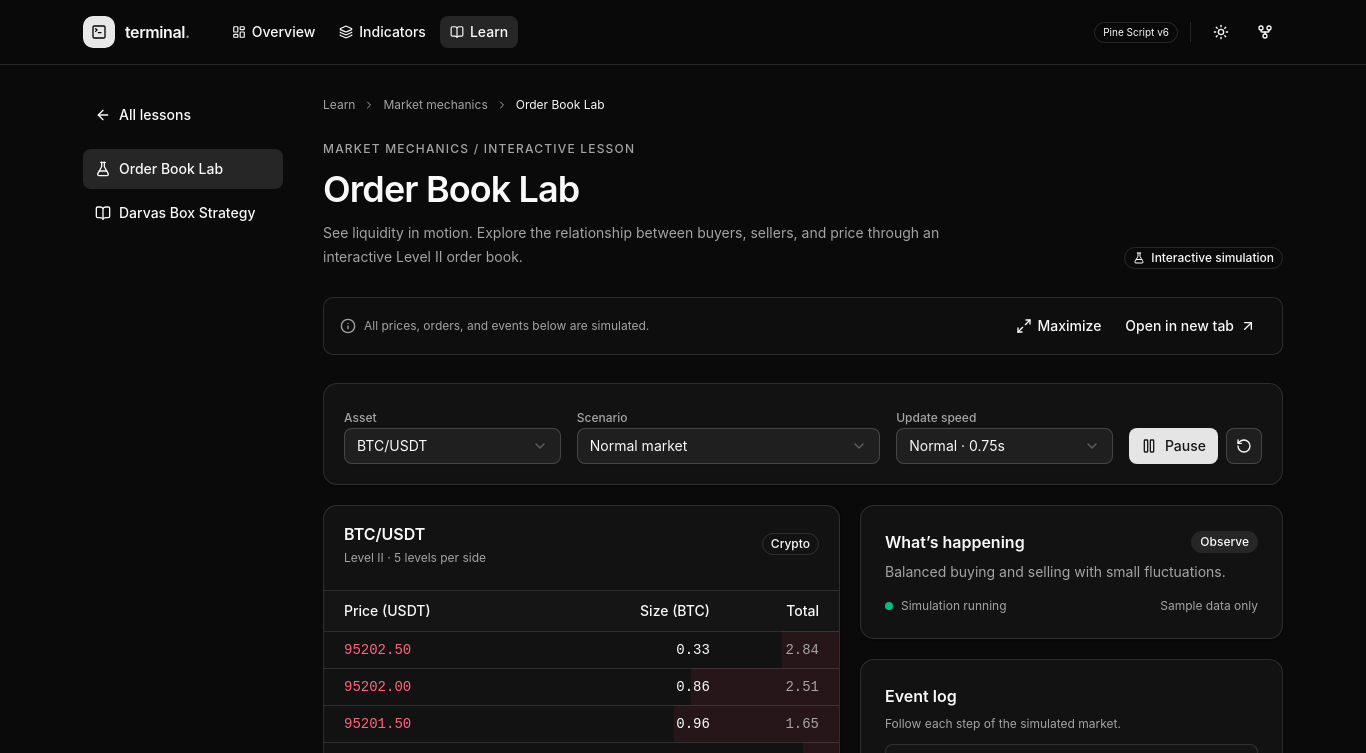
Test: preserves a paused book across maximization and restores focus on Escape
This screenshot has width=1366, height=753.
Click the button with aria-label "Pause simulation" at (1173, 446), box [1129,428,1218,464]
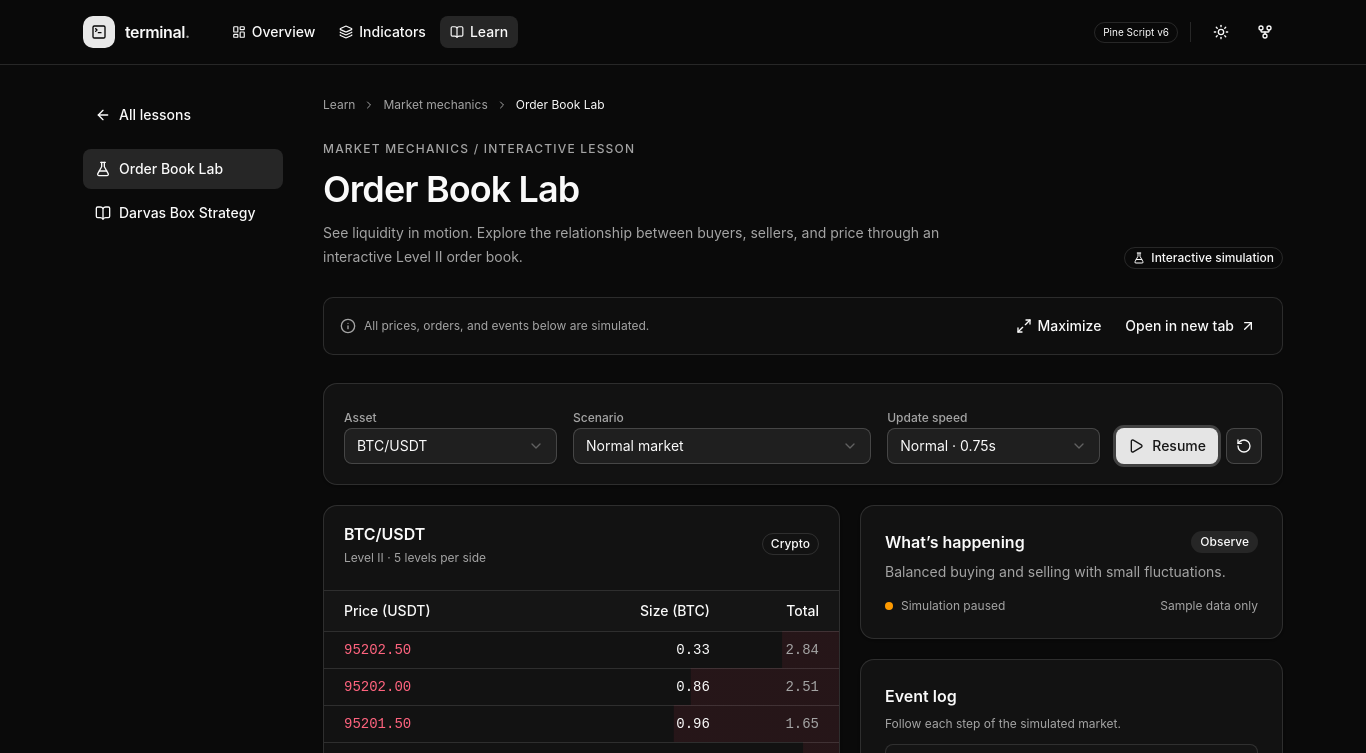
Click the button "Maximize" at (1058, 326), box [1006,310,1111,342]
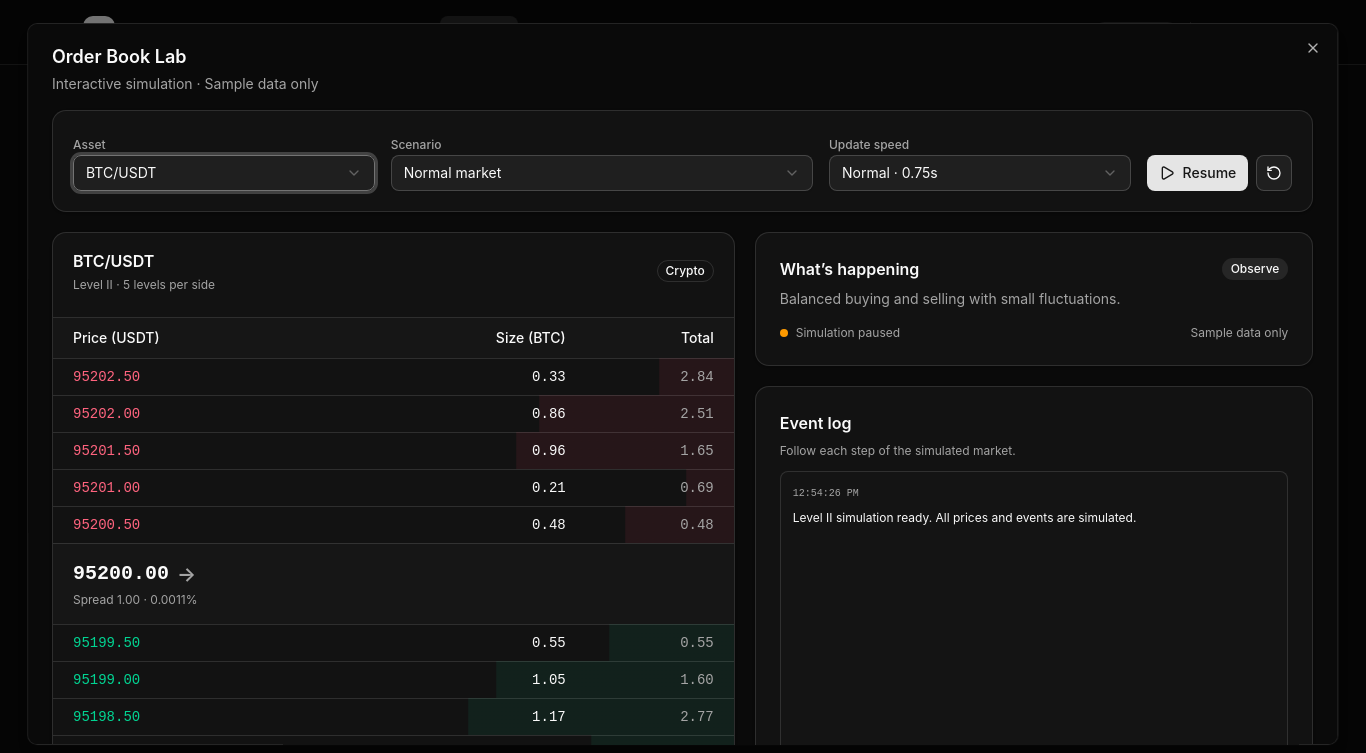
Expected: the text with test id "mid-price" reads "95200.00", [73,562,169,584]
Now the button with aria-label "Resume simulation" is shown, box [1147,155,1249,191]
Press Escape
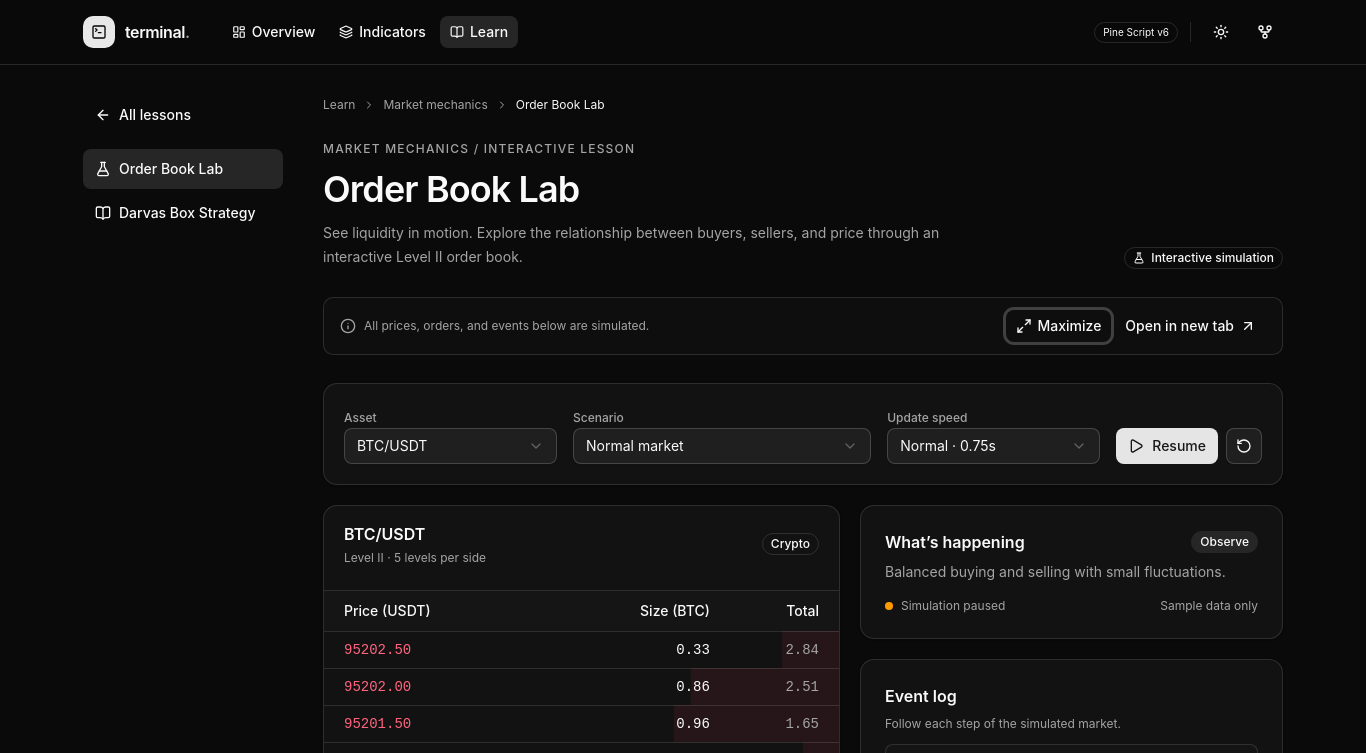
Now the dialog is gone
